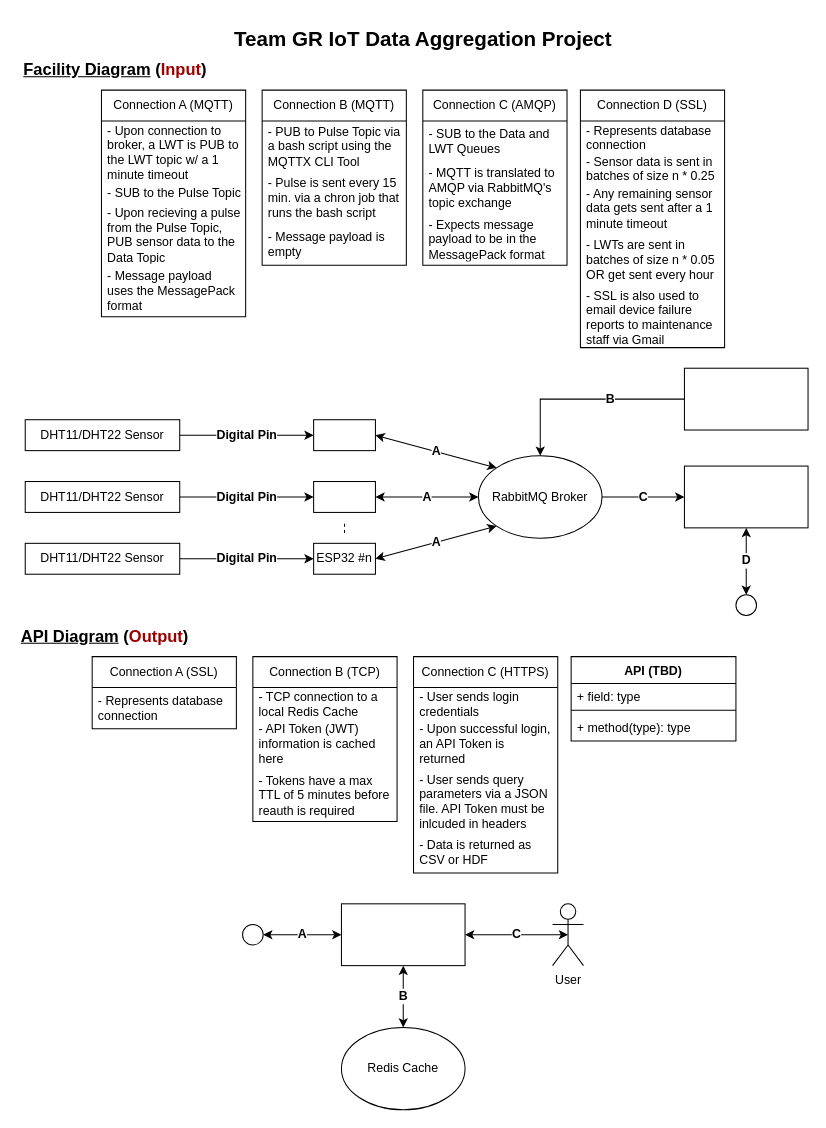
Some shapes in this 826 by 1128 pixel diagram are drawn without their labels. The centre of each missing label's shape, as x and y in pixels:
"Broadway App" belongs at [745,496].
"ESP32 #1" belongs at [344,435].
"ESP32 #2" belongs at [344,496].
"Phoenix REST API" belongs at [402,934].
"Pulse Chron Job" belongs at [745,398].
